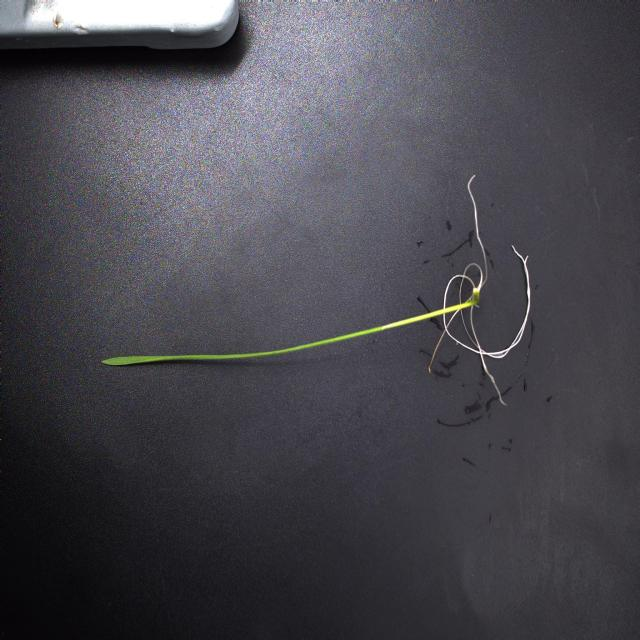leaf: (101, 342, 319, 368)
root: (428, 171, 535, 409)
stem: (320, 294, 479, 350)
